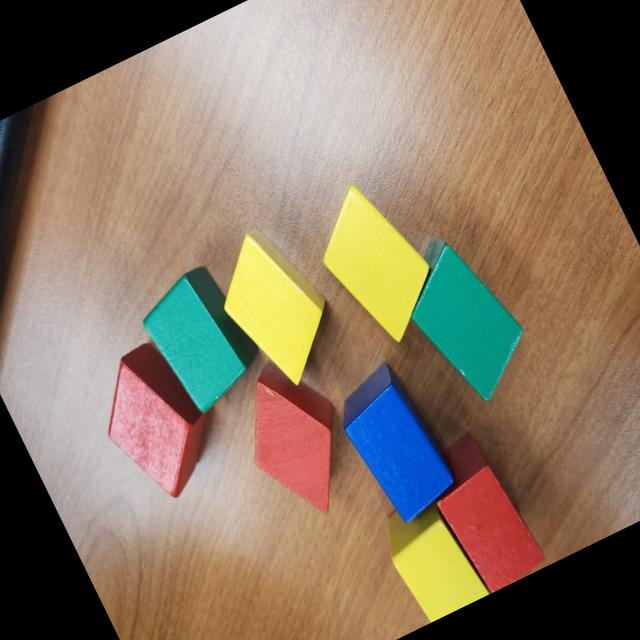blue: (324, 354, 466, 530)
green: (384, 218, 547, 416), (130, 258, 273, 420)
red: (216, 343, 374, 532), (77, 330, 236, 514), (414, 425, 548, 597)
yellow: (297, 167, 454, 356), (198, 215, 354, 400), (371, 487, 491, 626)
